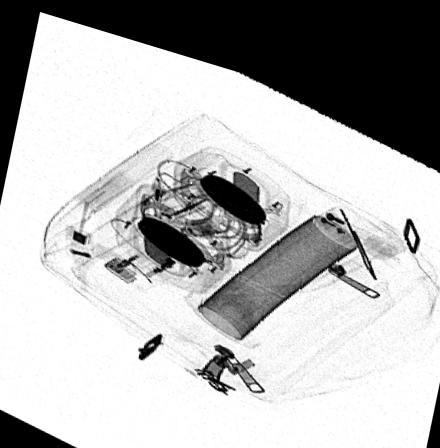Lighter: (102, 210, 207, 276)
